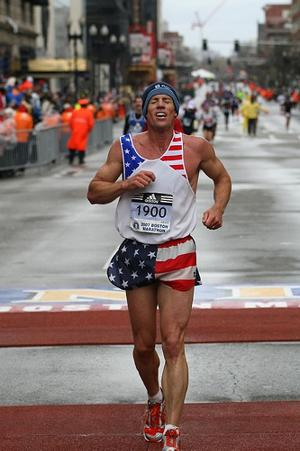person: (88, 86, 232, 451)
